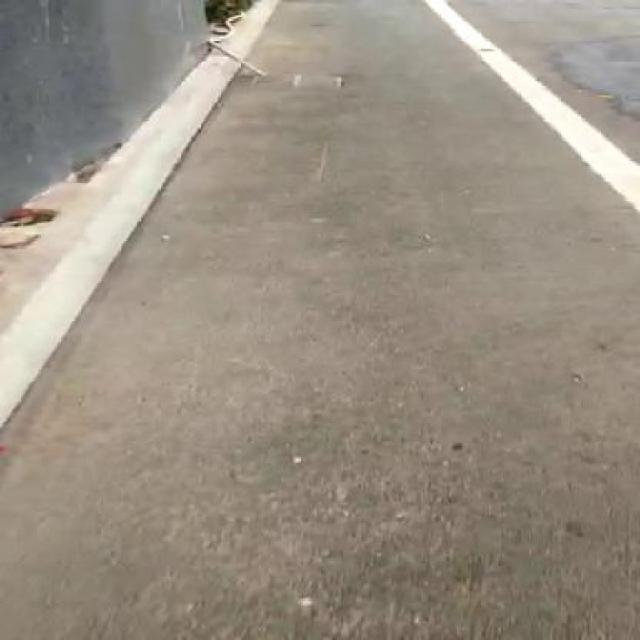Manhole: (252, 72, 352, 92)
